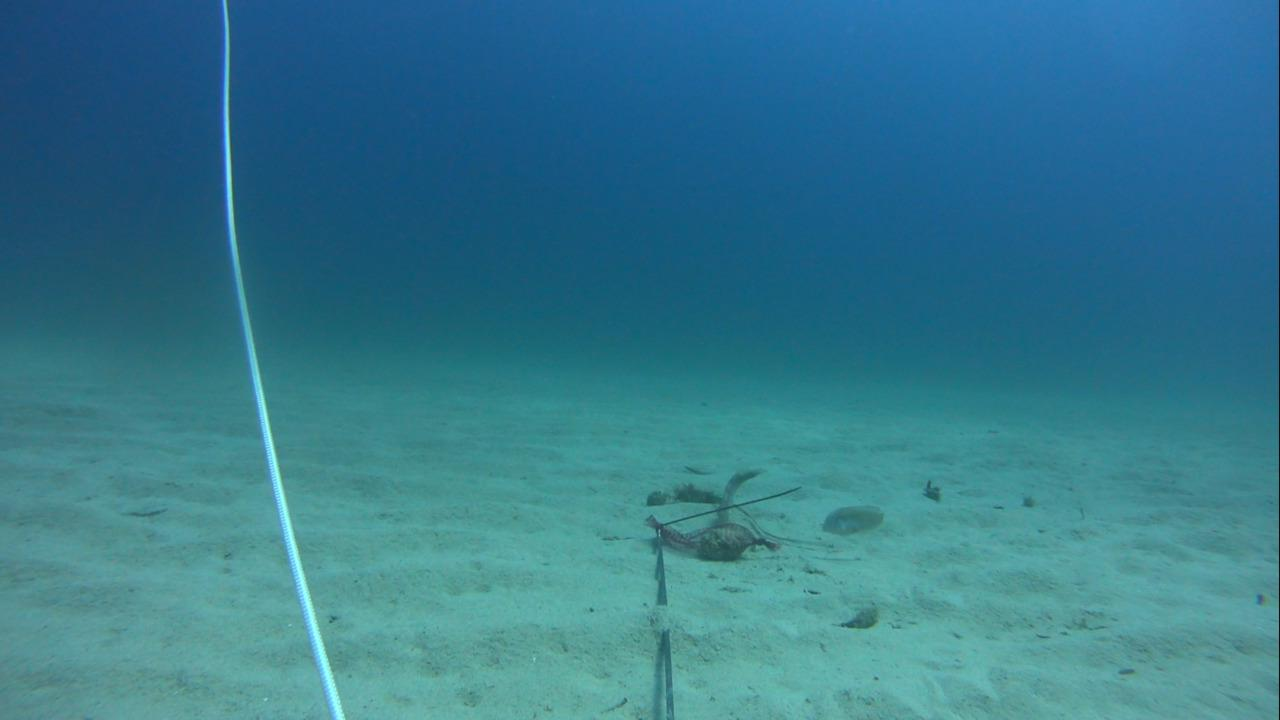raor: (706, 462, 767, 525), (813, 502, 890, 540)
